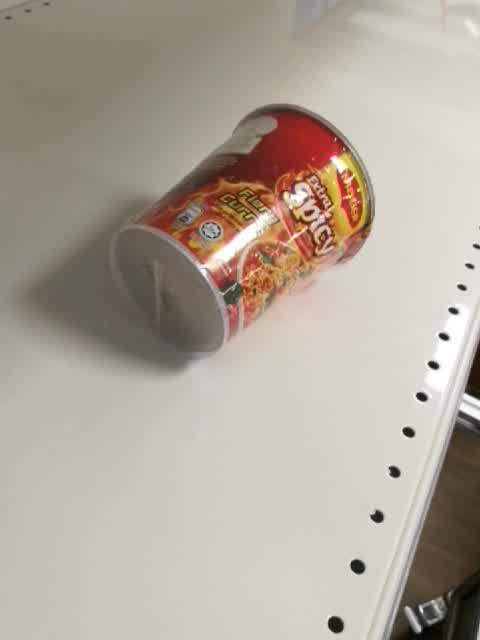maggi: (107, 102, 375, 358)
